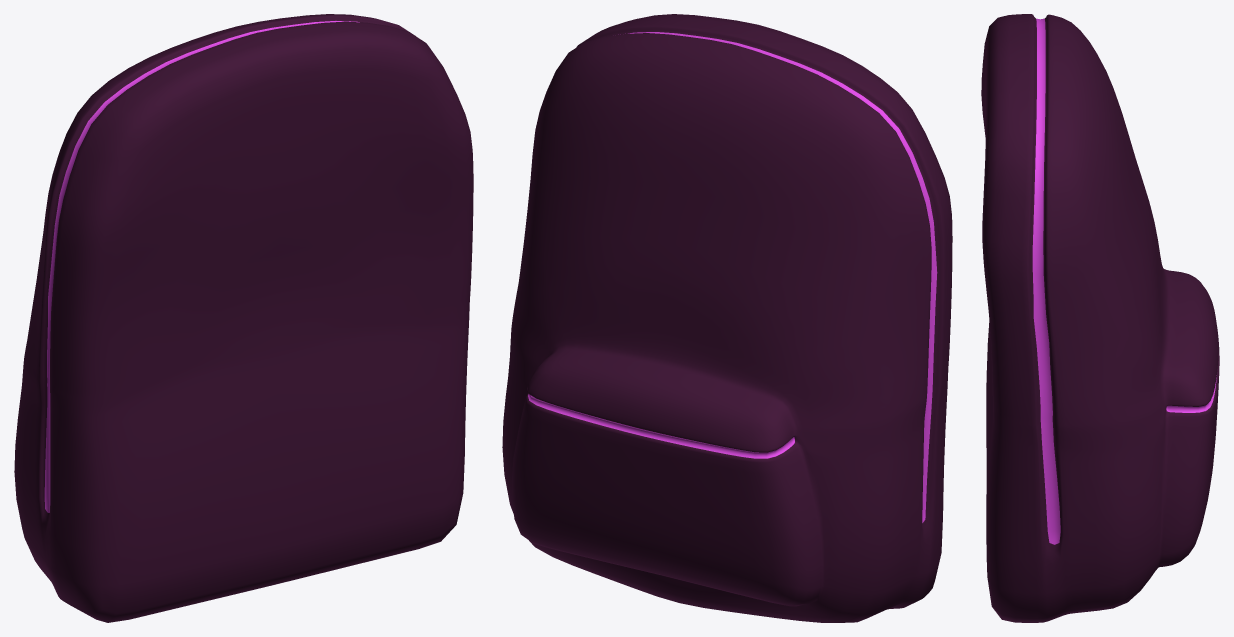
File: KizCocuk_Canta.fbx
The picture shows the model from 3 angles, left to right: view 1: azimuth 30°, elevation 25°; view 2: azimuth 150°, elevation 25°; view 3: azimuth 270°, elevation 25°; orthographic projection. The views are drawn at different scales.
Parts seen in each view (by area): view 1: KizCocuk.005; view 2: KizCocuk.005; view 3: KizCocuk.005.
Boxes of the visible parts, x1,y1,x2,y2 form: KizCocuk.005: (14,14,473,622); KizCocuk.005: (502,14,952,622); KizCocuk.005: (981,14,1219,622).
Size of the model in its own units: 46.4 by 58.05 by 25.13.
